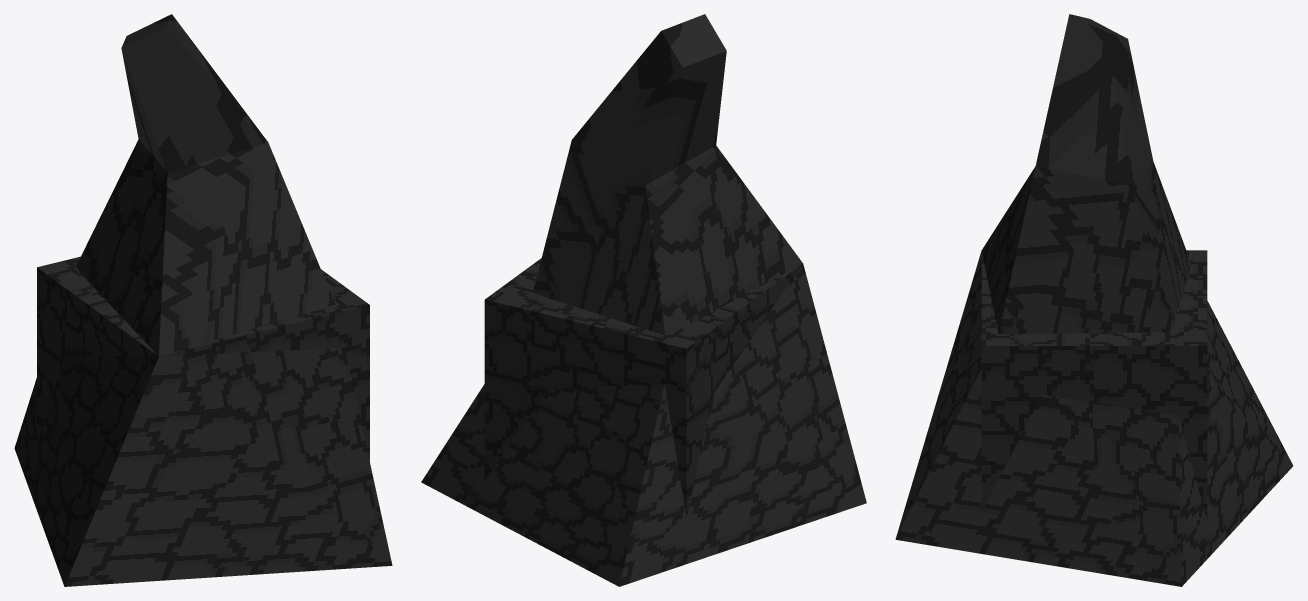
File: Models.fbx
The picture shows the model from 3 angles, left to right: view 1: azimuth 30°, elevation 25°; view 2: azimuth 150°, elevation 25°; view 3: azimuth 270°, elevation 25°; orthographic projection. The views are drawn at different scales.
Visible parts, largest first — view 1: Spike, Cube; view 2: Spike, Cube; view 3: Spike, Cube.
Part boxes in pixels (x1,y1,x2,y2): Spike: (14, 14, 392, 586); Cube: (37, 256, 369, 461); Spike: (421, 14, 866, 586); Cube: (484, 258, 802, 517); Spike: (895, 14, 1293, 586); Cube: (981, 250, 1207, 519).
Bounding box in the file's own units: 176 × 228 × 176.
